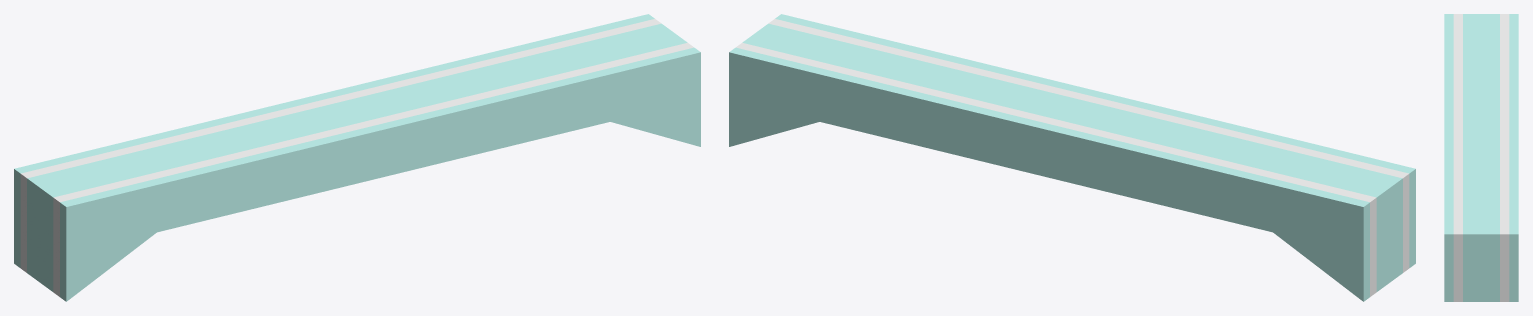
File: BridgeRow.fbx
3 views of the same model, side by side, from view 1: azimuth 30°, elevation 25°; view 2: azimuth 150°, elevation 25°; view 3: azimuth 270°, elevation 25° (orthographic). The views are drawn at different scales.
Parts seen in each view (by area): view 1: Cube; view 2: Cube; view 3: Cube.
Part boxes in pixels (x1,y1,x2,y2): Cube: (14, 14, 700, 301); Cube: (729, 14, 1415, 301); Cube: (1444, 14, 1518, 301).
Size of the model in its own units: 1400 by 200 by 200.
